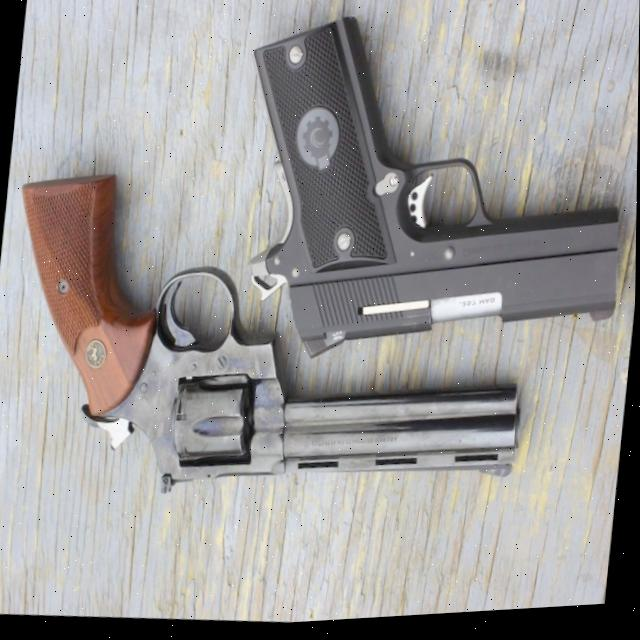pistol: (0, 148, 545, 534), (221, 0, 640, 390)
